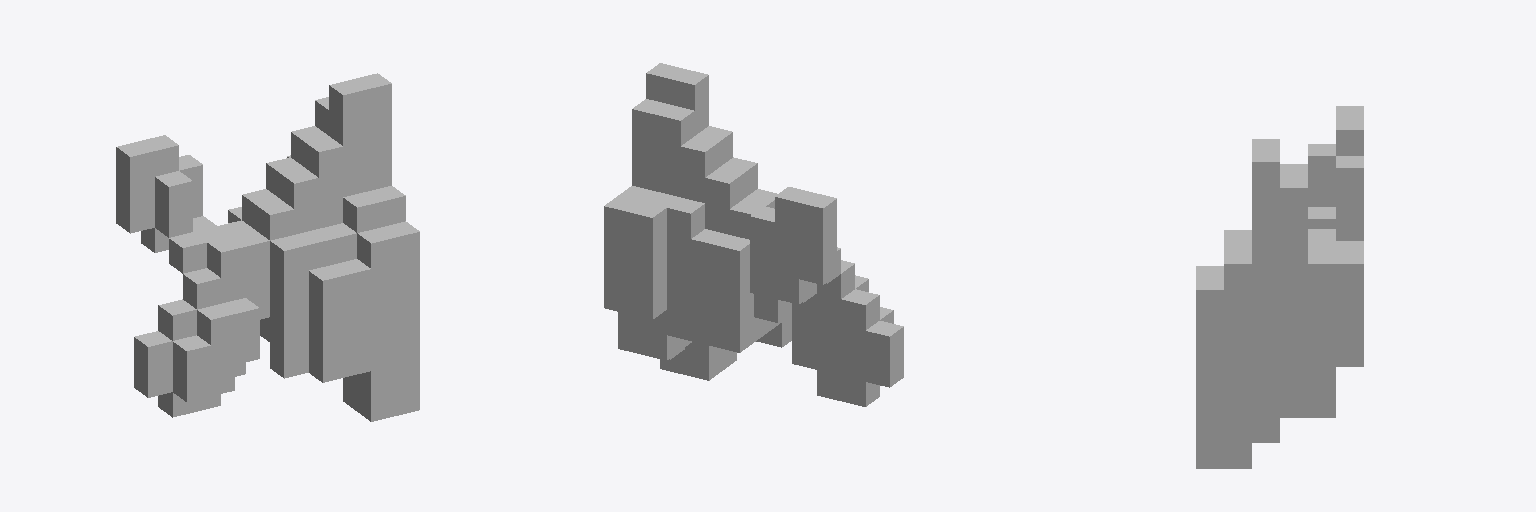
Rendered from Plant2.obj.
3 views of the same model, side by side, from view 1: azimuth 30°, elevation 25°; view 2: azimuth 150°, elevation 25°; view 3: azimuth 270°, elevation 25° (orthographic).
Parts seen in each view (by area): view 1: object 1; view 2: object 1; view 3: object 1.
Boxes of the visible parts, box(x1,y1,x2,y2) form: object 1: box(116, 73, 419, 421); object 1: box(604, 63, 903, 406); object 1: box(1196, 106, 1363, 468).
Bounding box in the file's own units: 1 × 1.2 × 0.6.